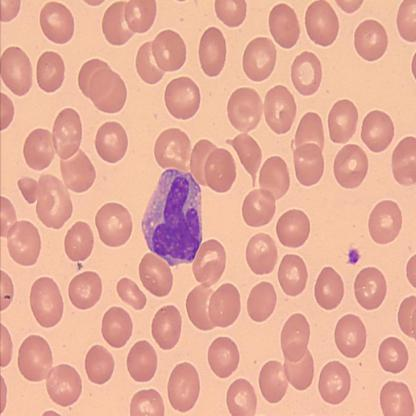Monocyte: (140, 167, 205, 268)
